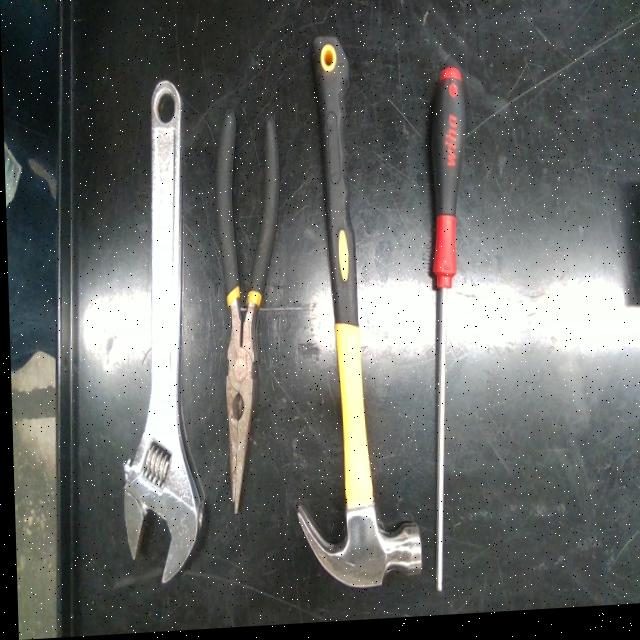Screwdriver: (430, 72, 465, 595)
